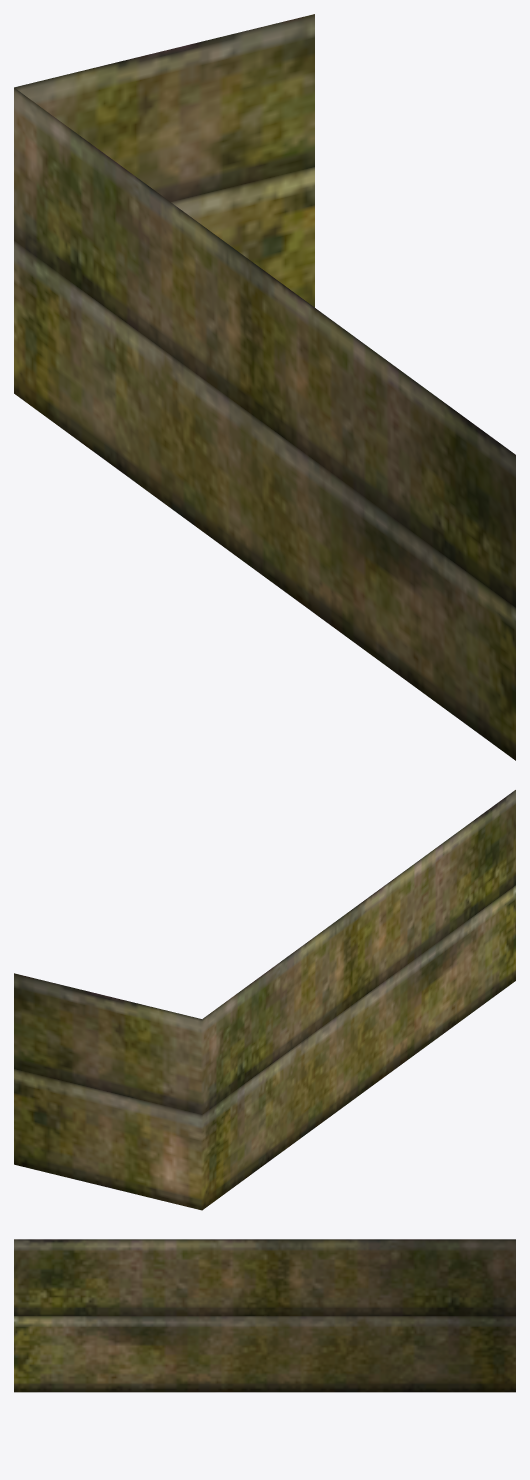
File: OVERHILL_A_01_OBJECT90.fbx
3 renders of one model, top to bottom at view 1: azimuth 30°, elevation 25°; view 2: azimuth 150°, elevation 25°; view 3: azimuth 270°, elevation 25°, orthographic. The views are drawn at different scales.
Parts seen in each view (by area): view 1: OVERHILL_A_01_OBJECT90; view 2: OVERHILL_A_01_OBJECT90; view 3: OVERHILL_A_01_OBJECT90.
Boxes of the visible parts, x1=… form: OVERHILL_A_01_OBJECT90: x1=14, y1=14, x2=515, y2=760; OVERHILL_A_01_OBJECT90: x1=14, y1=790, x2=515, y2=1210; OVERHILL_A_01_OBJECT90: x1=14, y1=1239, x2=515, y2=1392.
Size of the model in its own units: 9153 by 8892 by 26437.
1 material, 1 textured.
